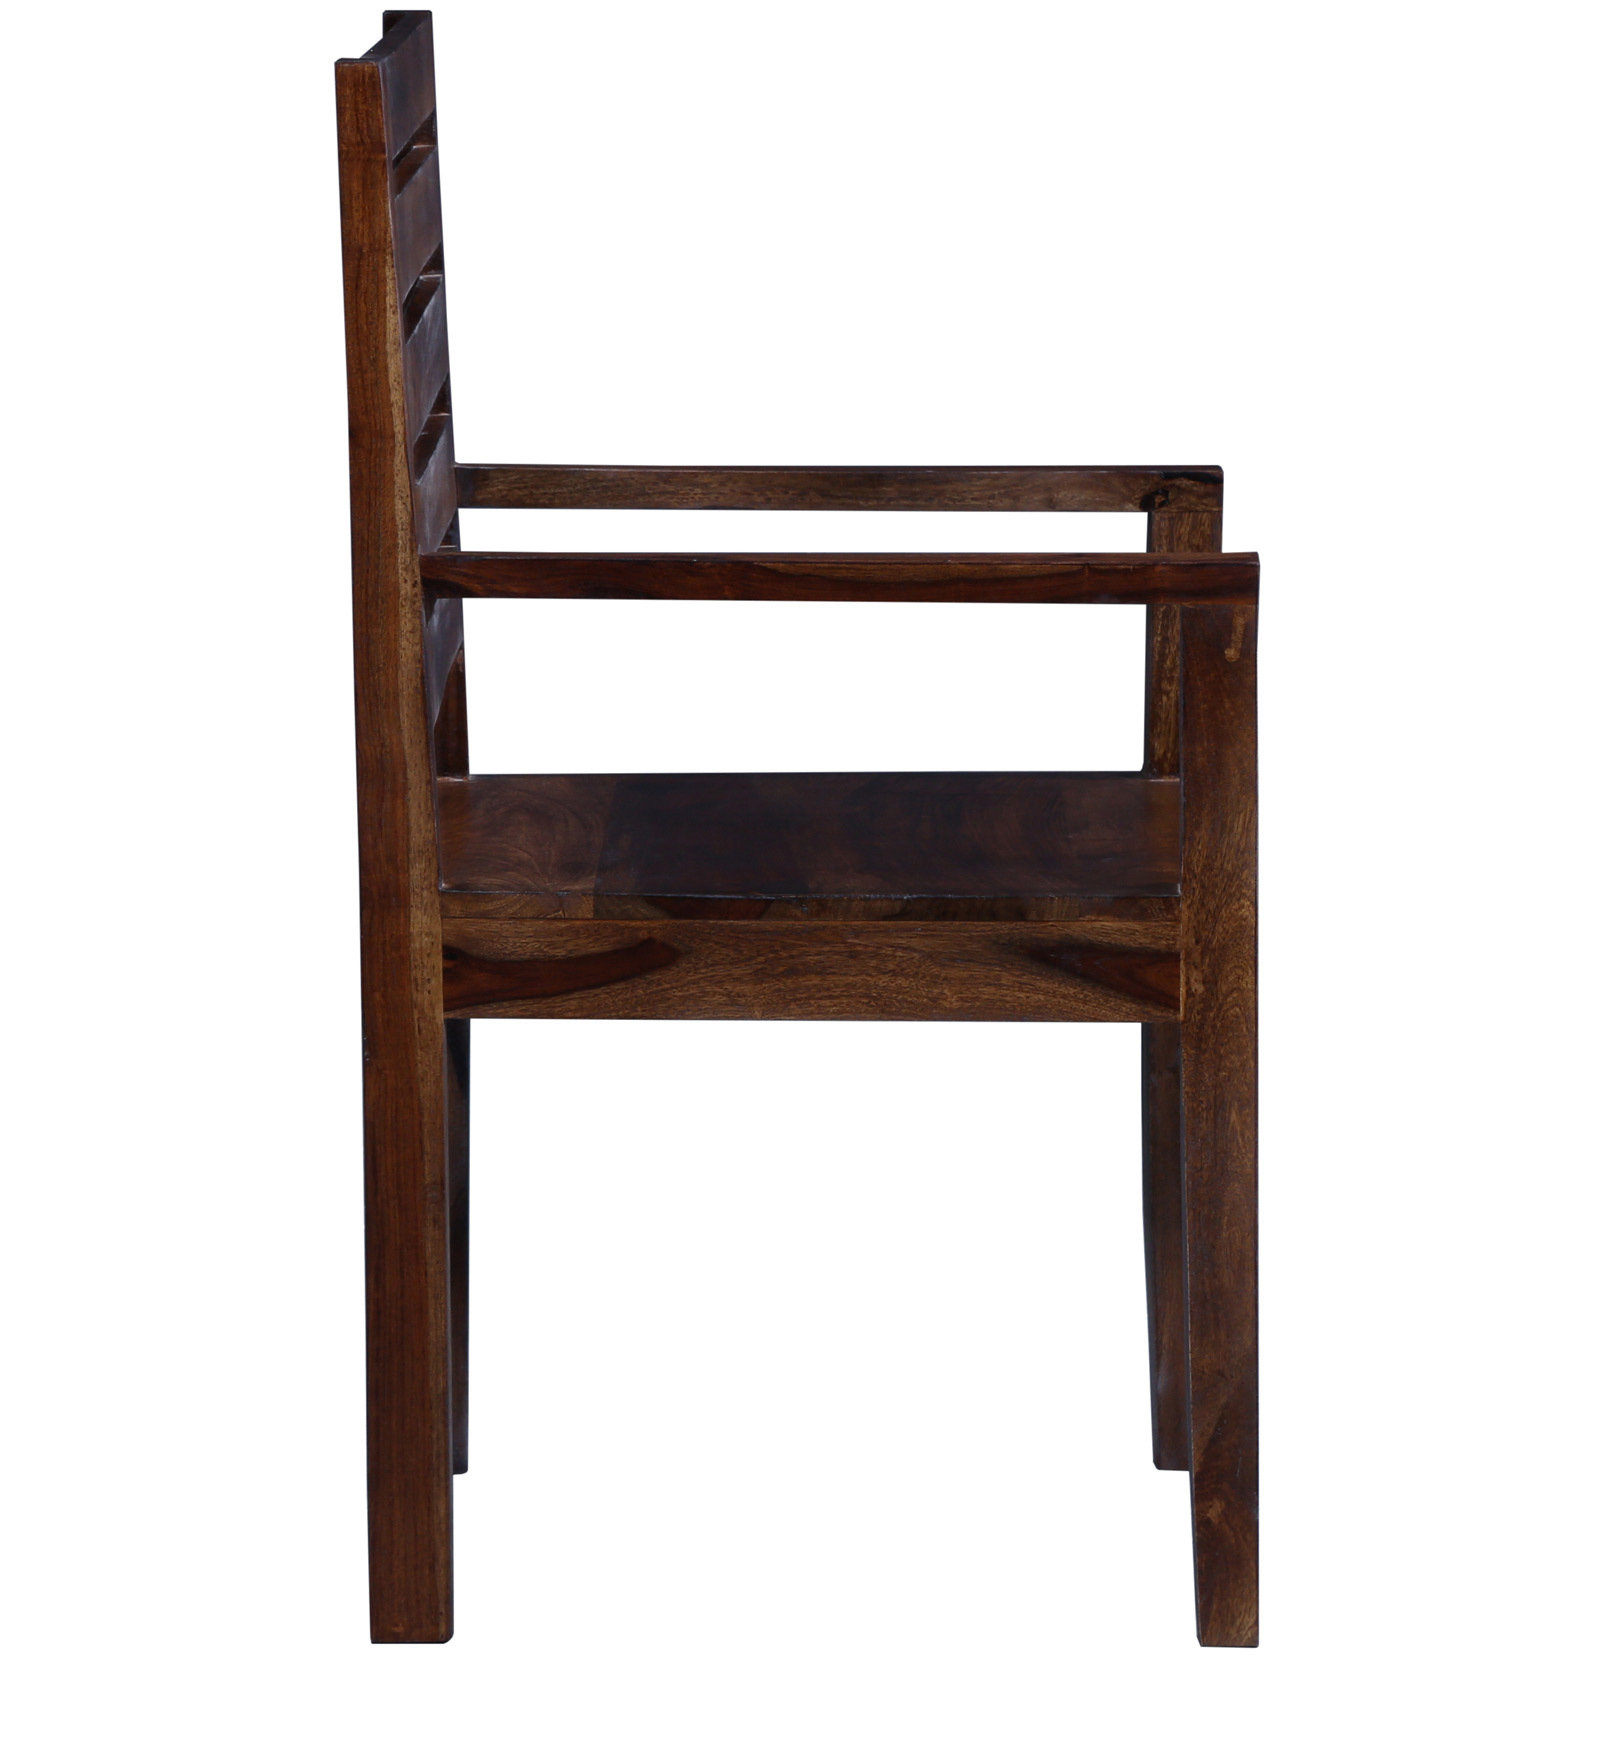Stigen Arm Chair in Provincial Teak Finish by Woodsworth: (242, 6, 1349, 1673)
